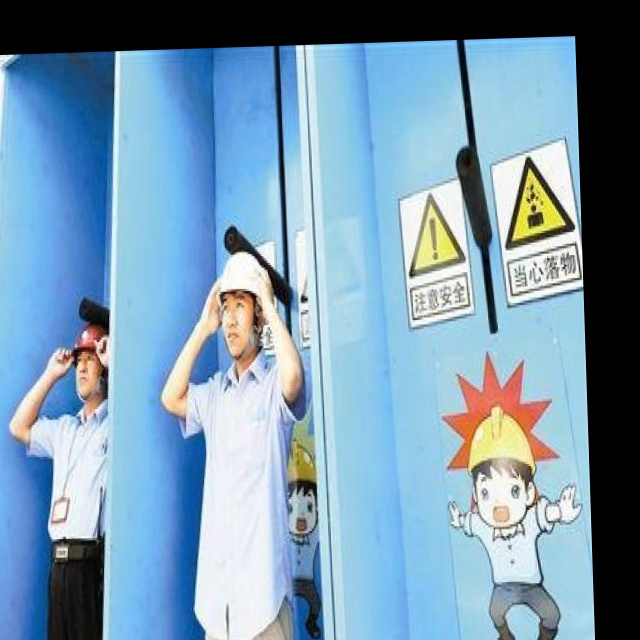Con_Casco: (218, 253, 268, 360), (70, 324, 109, 403)
